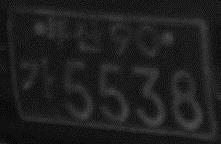0: (135, 22, 161, 58)
3: (131, 63, 167, 127)
5: (59, 58, 96, 121), (97, 61, 132, 125)
8: (170, 69, 204, 130)
9: (107, 19, 134, 55)
가: (18, 58, 57, 104)
부산_O: (46, 13, 103, 54)
